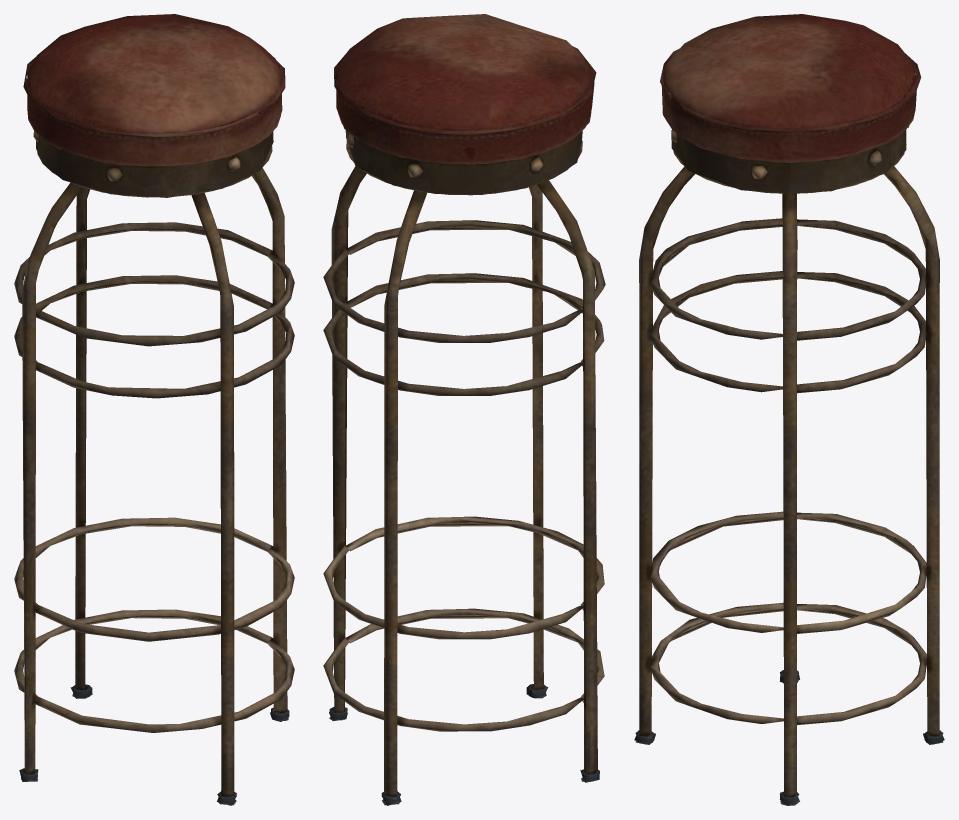
The model's file is ph_metal_stool_01.glb.
3 views of the same model, side by side, from view 1: azimuth 30°, elevation 25°; view 2: azimuth 150°, elevation 25°; view 3: azimuth 270°, elevation 25° (orthographic).
Parts seen in each view (by area): view 1: metal_stool_01; view 2: metal_stool_01; view 3: metal_stool_01.
Part boxes in pixels (x1=…): metal_stool_01: x1=14, y1=14, x2=294, y2=805; metal_stool_01: x1=323, y1=14, x2=605, y2=805; metal_stool_01: x1=634, y1=14, x2=944, y2=805.
Bounding box in the file's own units: 0.3522 × 0.8845 × 0.3576.
1 material, 1 textured.
